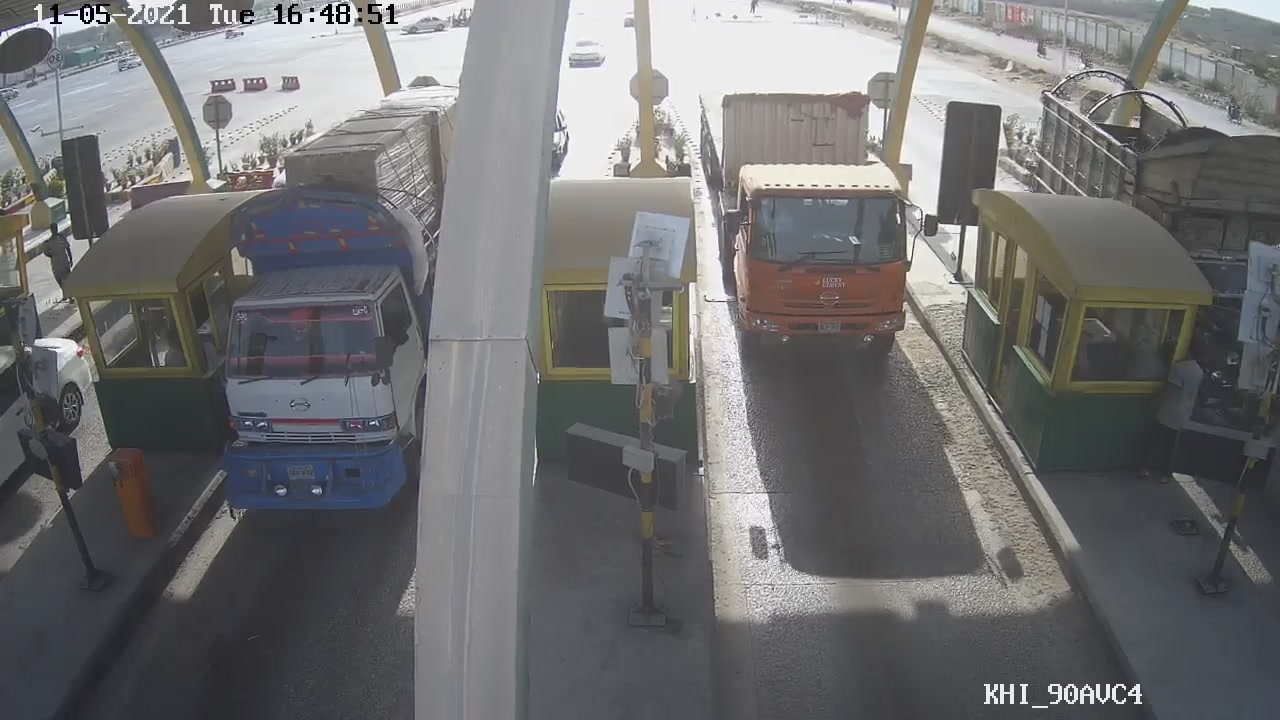F6: (692, 87, 929, 354)
